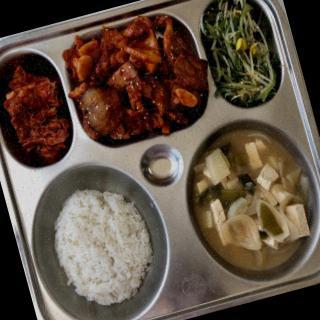Nasi: (42, 181, 162, 313)
